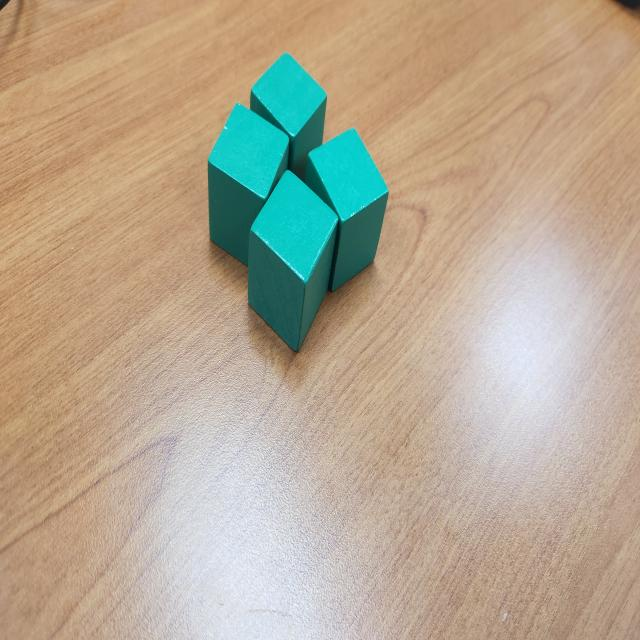green: (247, 168, 339, 352), (294, 129, 389, 291), (207, 101, 291, 267), (249, 51, 328, 183)
